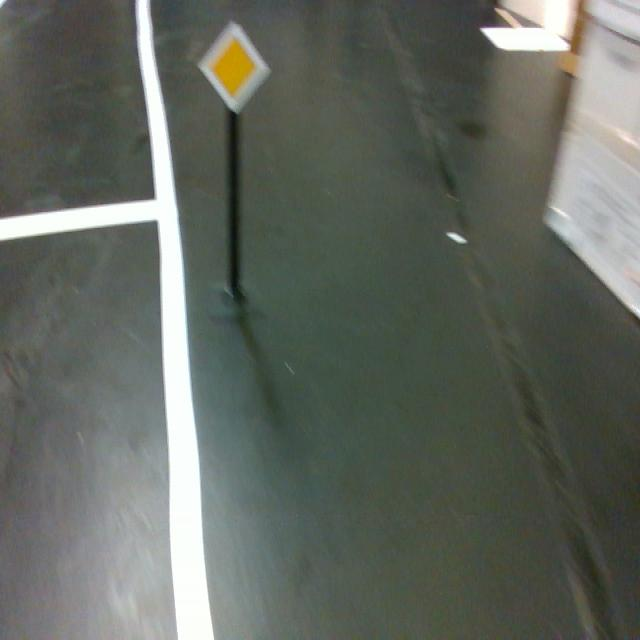priority-sign: (195, 19, 272, 116)
